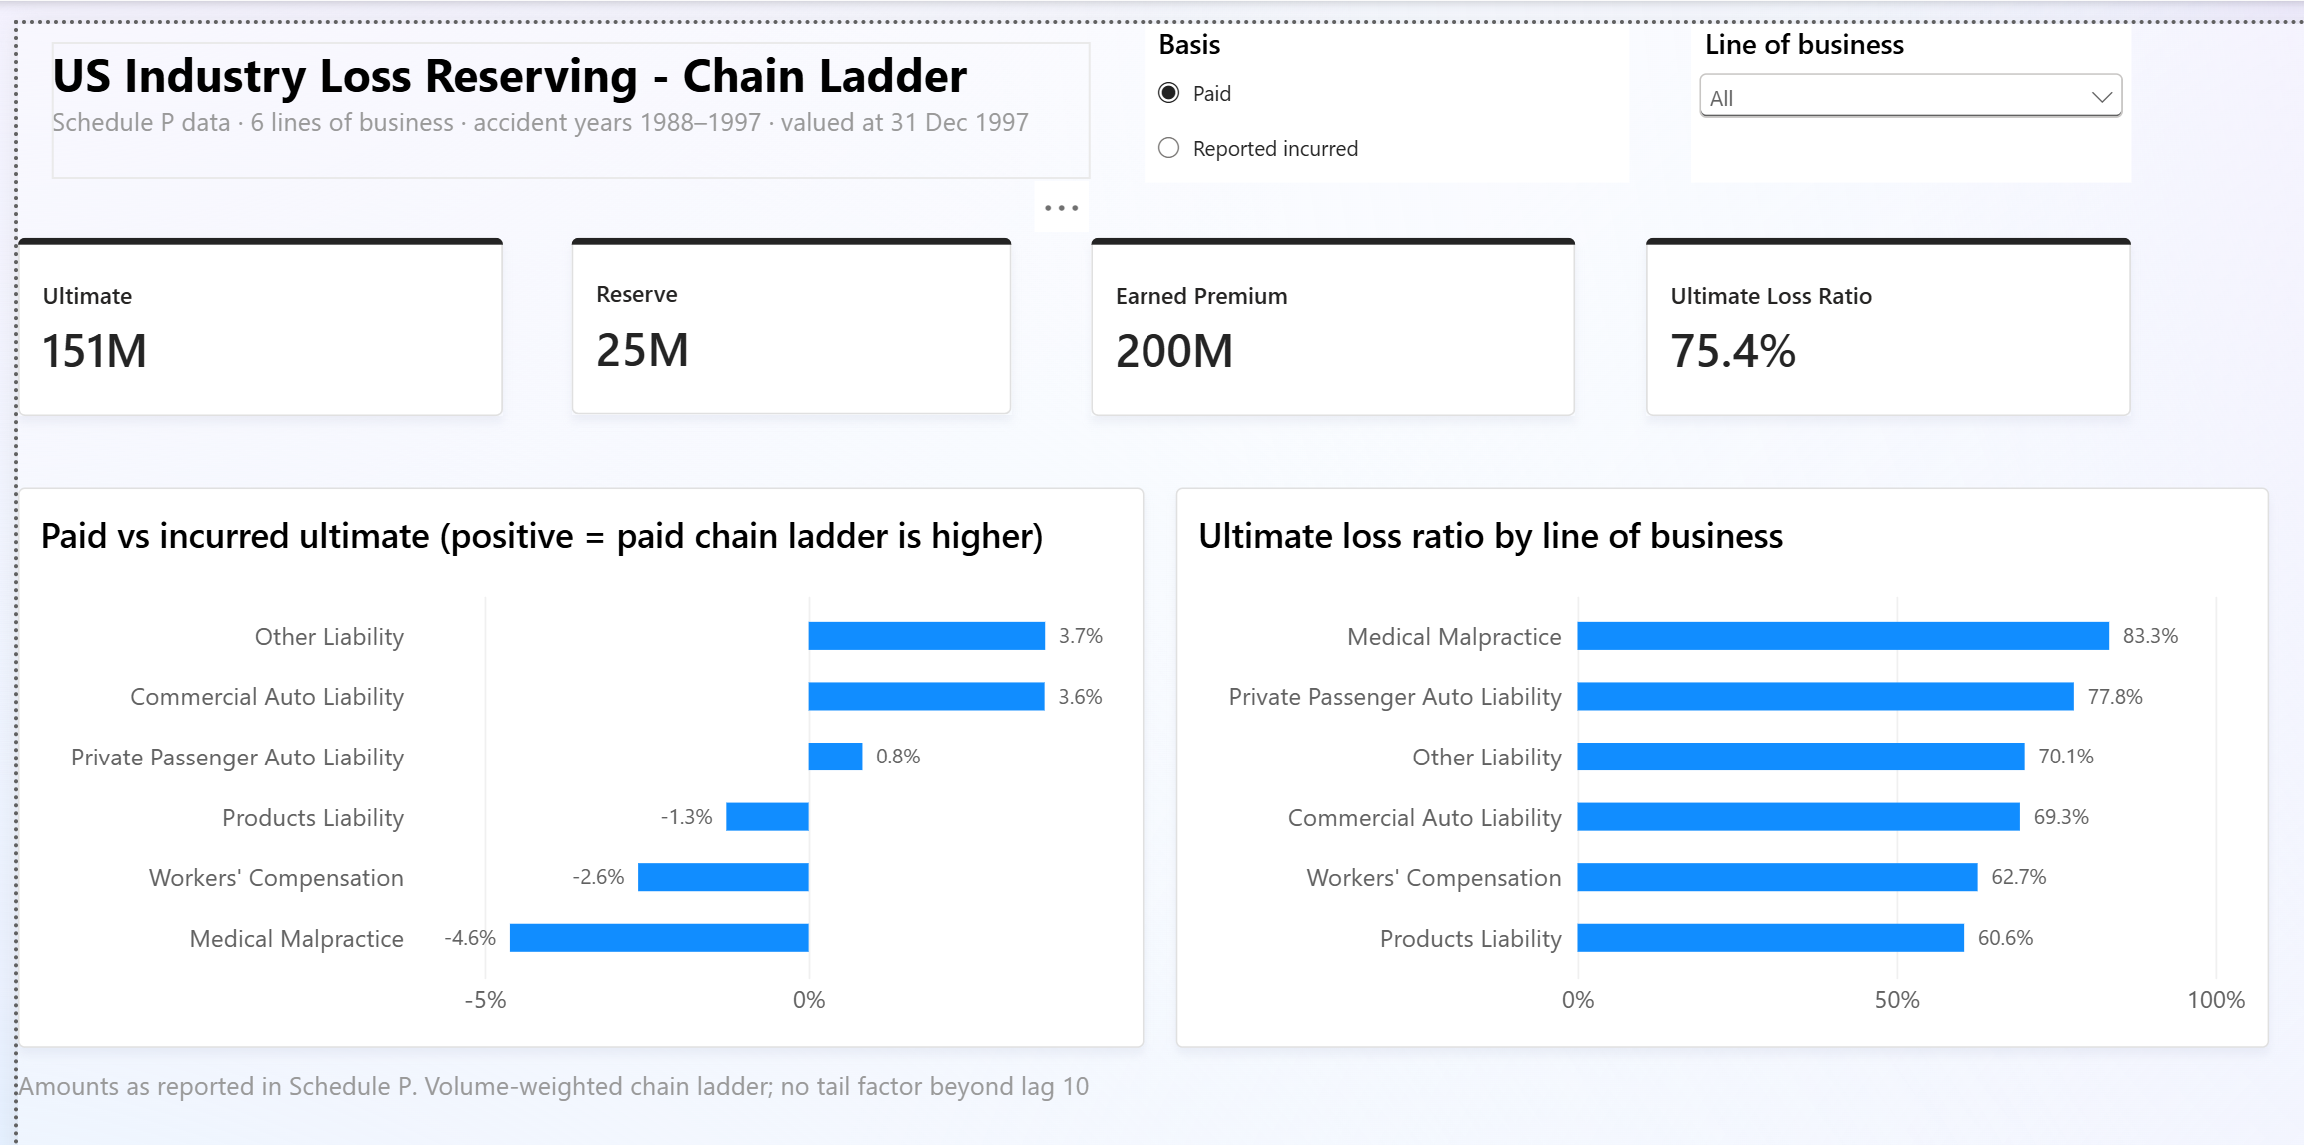

The page's visual inventory and layout, read from the dashboard file:
{"tool":"powerbi","page":{"name":"Overview","canvas":[1920,1080],"ordinal":0},"visuals":[{"type":"slicer","fields":{"Values":["dim_measure.measure"]},"box":[650,0,280.2,91.7],"z":1},{"type":"slicer","fields":{"Values":["dim_lob.lob_name"]},"box":[966.7,0,254.2,91.7],"z":2},{"type":"cardVisual","fields":{"Data":["_Measure.Ultimate"]},"box":[0,122.9,280.2,103.1],"z":3},{"type":"cardVisual","fields":{"Data":["_Measure.Reserve"]},"box":[319.8,124,254.2,102.1],"z":4},{"type":"cardVisual","fields":{"Data":["_Measure.Earned Premium"]},"box":[619.8,124,280.2,103.1],"z":5},{"type":"cardVisual","fields":{"Data":["_Measure.Ultimate Loss Ratio"]},"box":[940.6,122.9,280.2,103.1],"z":6},{"type":"clusteredBarChart","title":"Paid vs incurred ultimate (positive = paid chain ladder is higher)","fields":{"Category":["dim_lob.lob_name"],"Y":["_Measure.Paid vs Incurred %"]},"box":[0,267.7,650,324],"z":7},{"type":"clusteredBarChart","title":"Ultimate loss ratio by line of business","fields":{"Category":["dim_lob.lob_name"],"Y":["_Measure.Ultimate Loss Ratio"]},"box":[668.8,267.7,631.2,324],"z":8},{"type":"textbox","box":[20,10,600,79],"z":9},{"type":"textbox","box":[0,602,650,40],"z":10}]}

Visuals, with their boxes on the page's 1920x1080 design canvas (x1, y1, x2, y2). These are canvas units, not pixel positions in the 2304x1145 screenshot, which may show the page scaled, cropped or inside an application window:
slicer - dim_measure.measure: {"x1": 650, "y1": 0, "x2": 930, "y2": 92}
slicer - dim_lob.lob_name: {"x1": 967, "y1": 0, "x2": 1221, "y2": 92}
cardVisual - _Measure.Ultimate: {"x1": 0, "y1": 123, "x2": 280, "y2": 226}
cardVisual - _Measure.Reserve: {"x1": 320, "y1": 124, "x2": 574, "y2": 226}
cardVisual - _Measure.Earned Premium: {"x1": 620, "y1": 124, "x2": 900, "y2": 227}
cardVisual - _Measure.Ultimate Loss Ratio: {"x1": 941, "y1": 123, "x2": 1221, "y2": 226}
"Paid vs incurred ultimate (positive = paid chain ladder is higher)" clusteredBarChart: {"x1": 0, "y1": 268, "x2": 650, "y2": 592}
"Ultimate loss ratio by line of business" clusteredBarChart: {"x1": 669, "y1": 268, "x2": 1300, "y2": 592}
textbox: {"x1": 20, "y1": 10, "x2": 620, "y2": 89}
textbox: {"x1": 0, "y1": 602, "x2": 650, "y2": 642}
